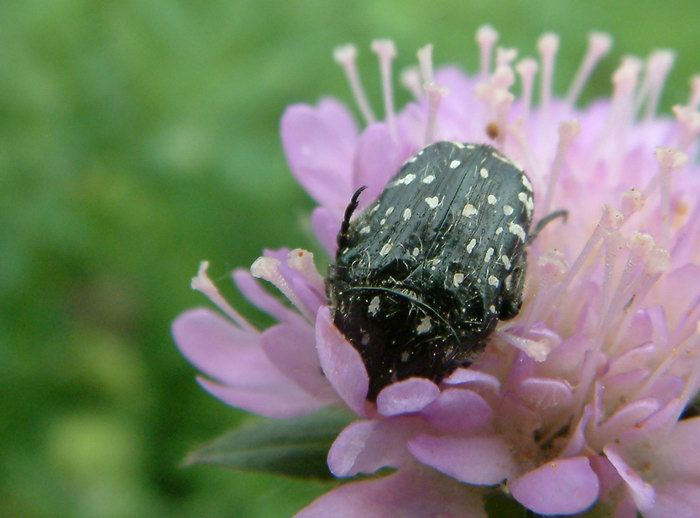Oxythyrea_funesta: (322, 134, 577, 428)
